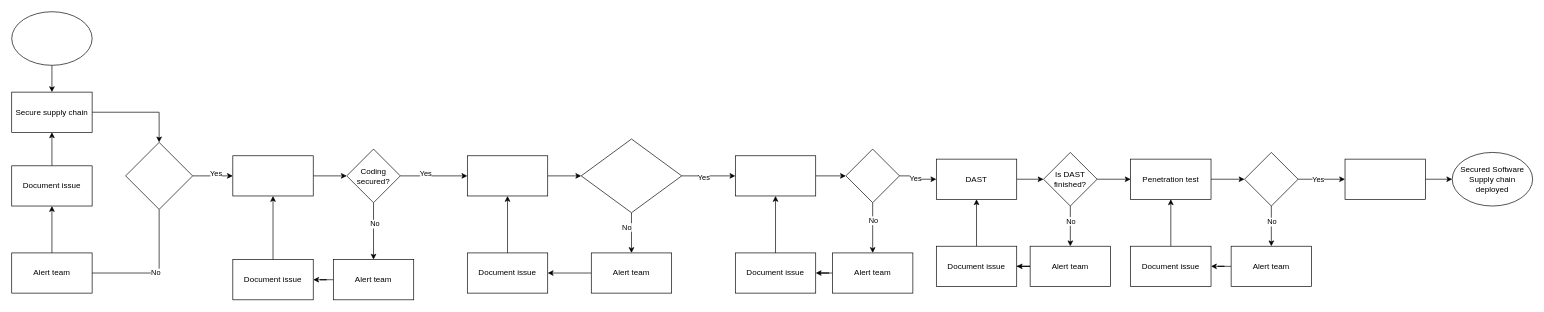
The diagram is 1544 pixels wide and 312 high, and some of its shapes have lost their labels. The shapes that lost their labels are listed below. From the top down, each one's centre as x and y in pixels, then its label:
At point (51, 38): "Secure software supply chain".
At point (159, 175): "Supply chain secured?".
At point (272, 175): "Secure coding".
At point (507, 175): "Security as code".
At point (631, 175): "Is the security as code correct and secured?".
At point (775, 175): "SAST".
At point (872, 175): "Is SAST finished?".
At point (1271, 179): "Is Penetration test finished?".
At point (1384, 178): "Release software supply chain".
